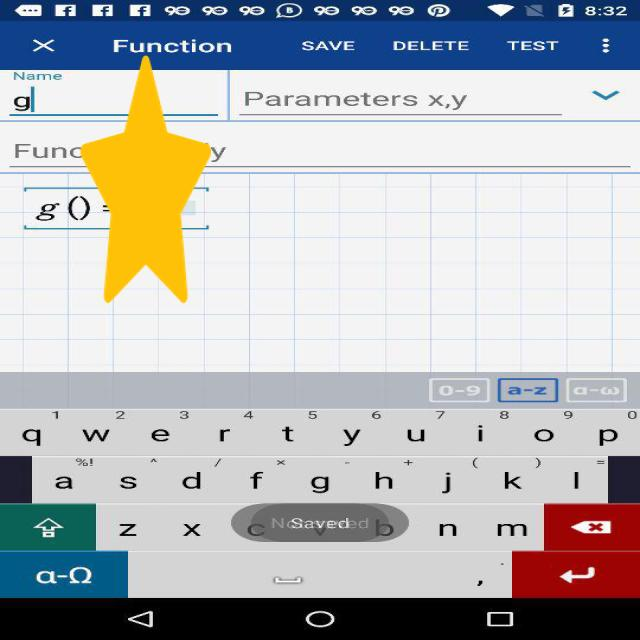forced continuity: (81, 55, 211, 304)
